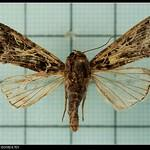Spodoptera litura: (1, 16, 150, 132)
